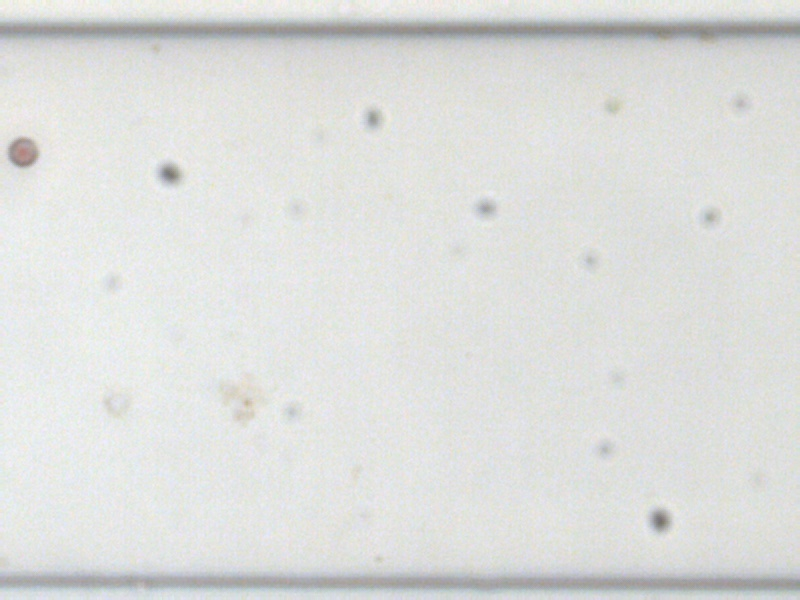Chlorella: (602, 97, 621, 114)
Porphyridium: (6, 137, 38, 167)
